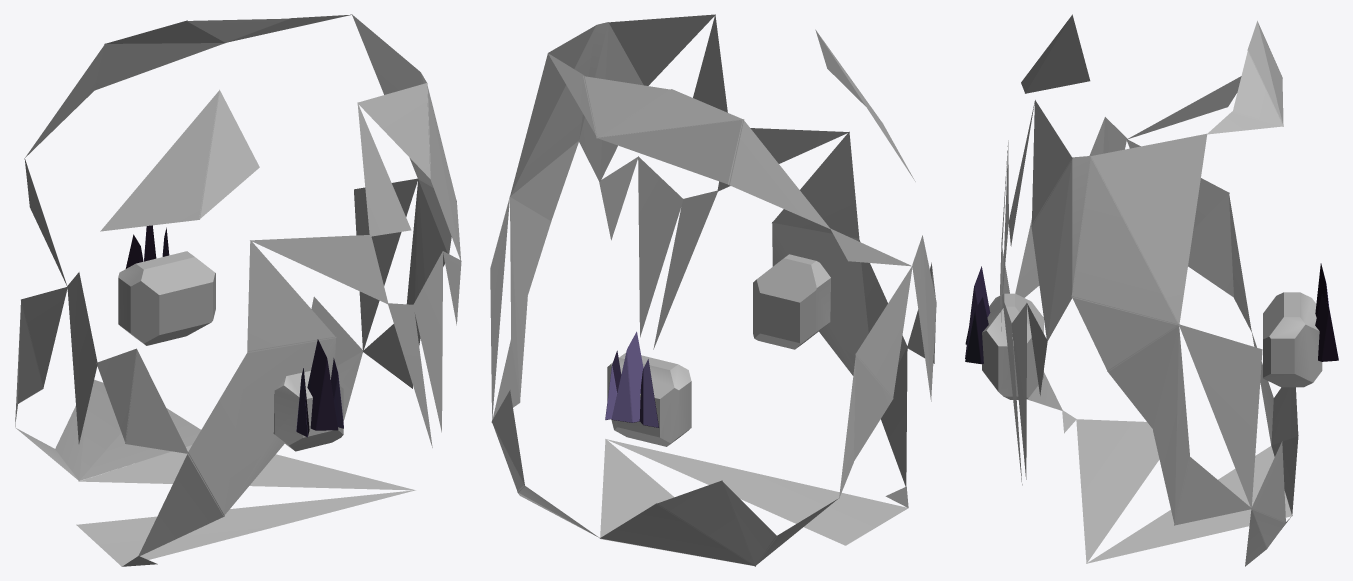
Rendered from vein_rock_b_obsidian.glb.
3 views of the same model, side by side, from view 1: azimuth 30°, elevation 25°; view 2: azimuth 150°, elevation 25°; view 3: azimuth 270°, elevation 25° (orthographic).
Bounding box in the file's own units: 1.31 × 1.5 × 1.12.
